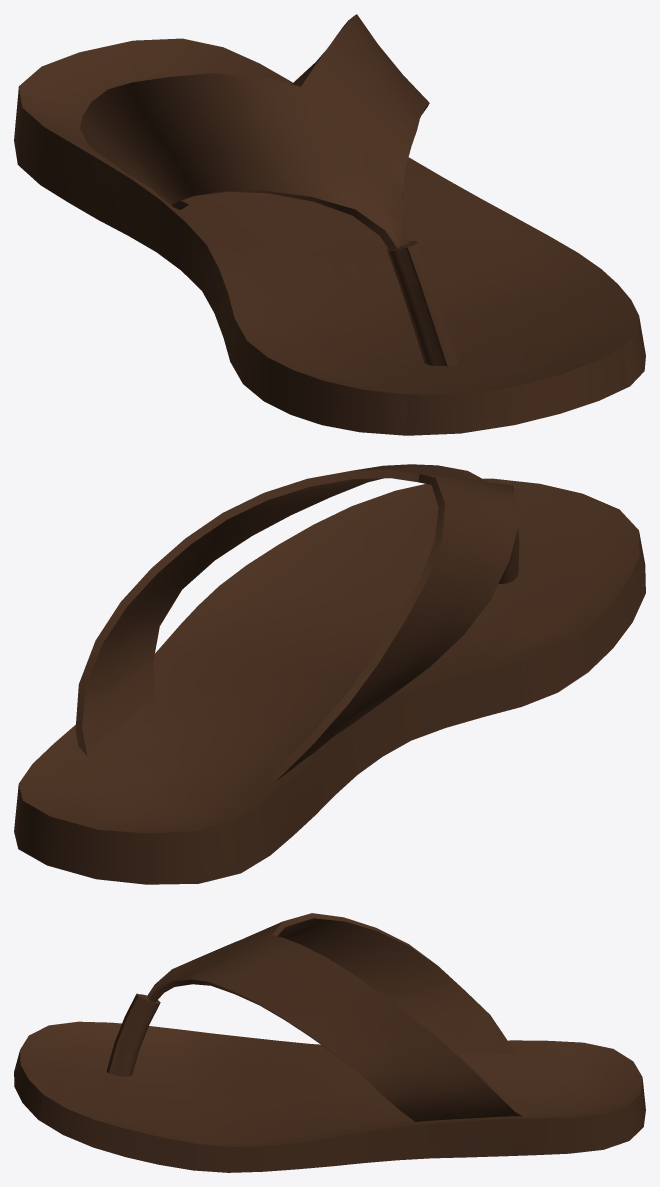
File: sandal.glb
3 renders of one model, top to bottom at view 1: azimuth 30°, elevation 25°; view 2: azimuth 150°, elevation 25°; view 3: azimuth 270°, elevation 25°, orthographic. The views are drawn at different scales.
Parts seen in each view (by area): view 1: sandal; view 2: sandal; view 3: sandal.
Boxes of the visible parts, bbox=[...] form: sandal: bbox=[14, 14, 645, 435]; sandal: bbox=[14, 464, 645, 884]; sandal: bbox=[14, 913, 645, 1172].
Bounding box in the file's own units: 0.124 × 0.0825 × 0.2885.
1 material, 1 textured.
